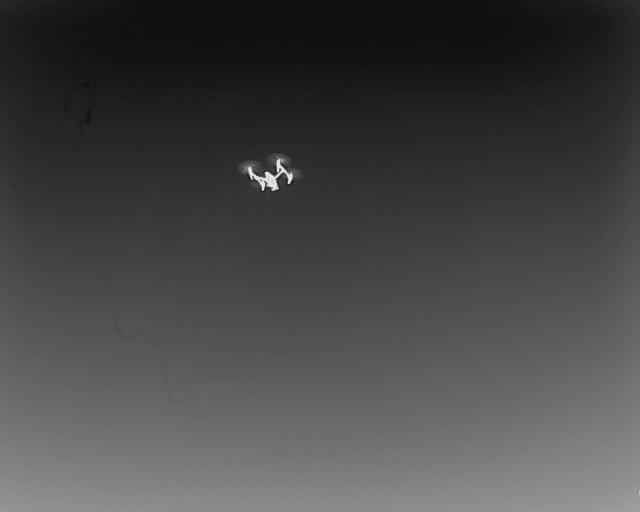drone: (238, 152, 298, 202)
